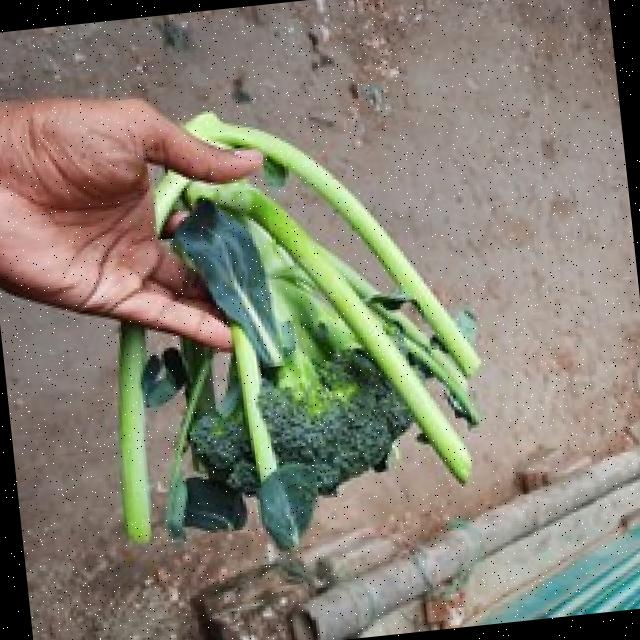Broccoli: (259, 349, 411, 495), (259, 349, 411, 494), (189, 412, 257, 493), (190, 413, 256, 493)
